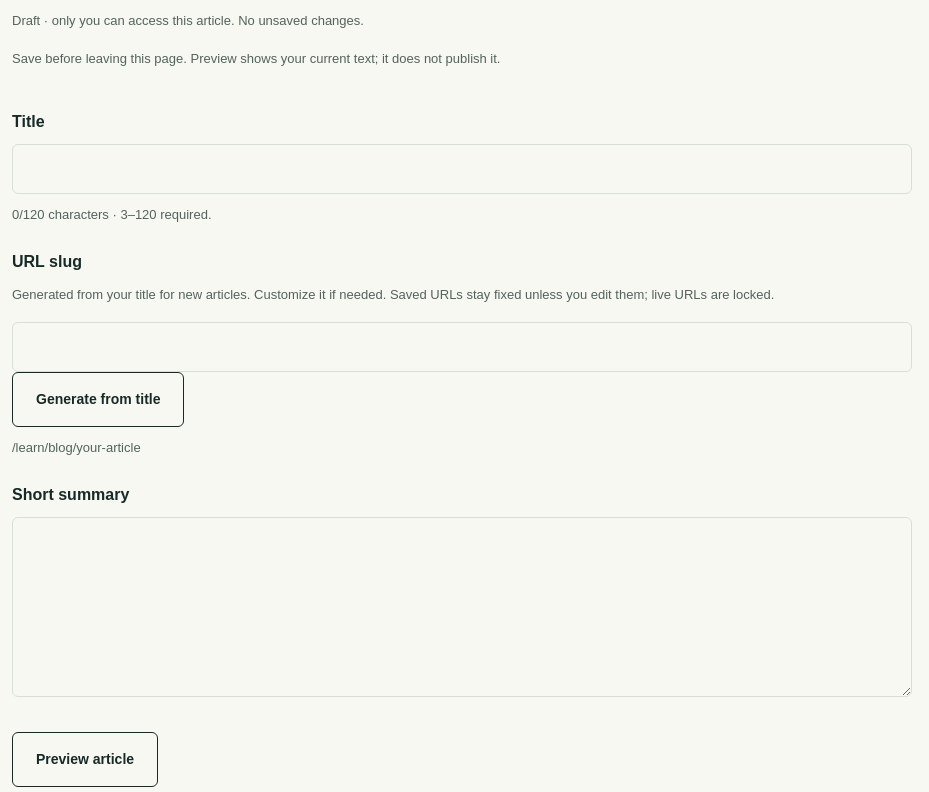
Test: generates a slug from a new title and respects manual overrides
Type "My First Flask App!" into the field labelled "Title" at x=462, y=169, box [12,144,912,194]
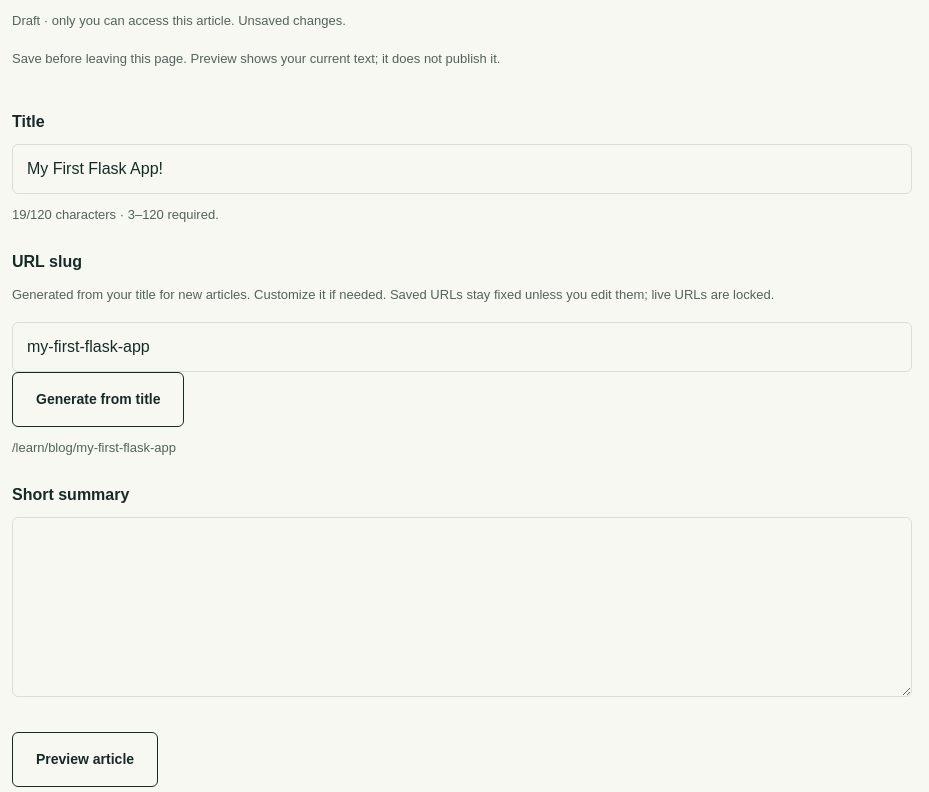
Check: the field labelled "URL slug" holds "my-first-flask-app"
Replace the text in the field labelled "URL slug" with "custom-url" at x=462, y=347, box [12,322,912,372]
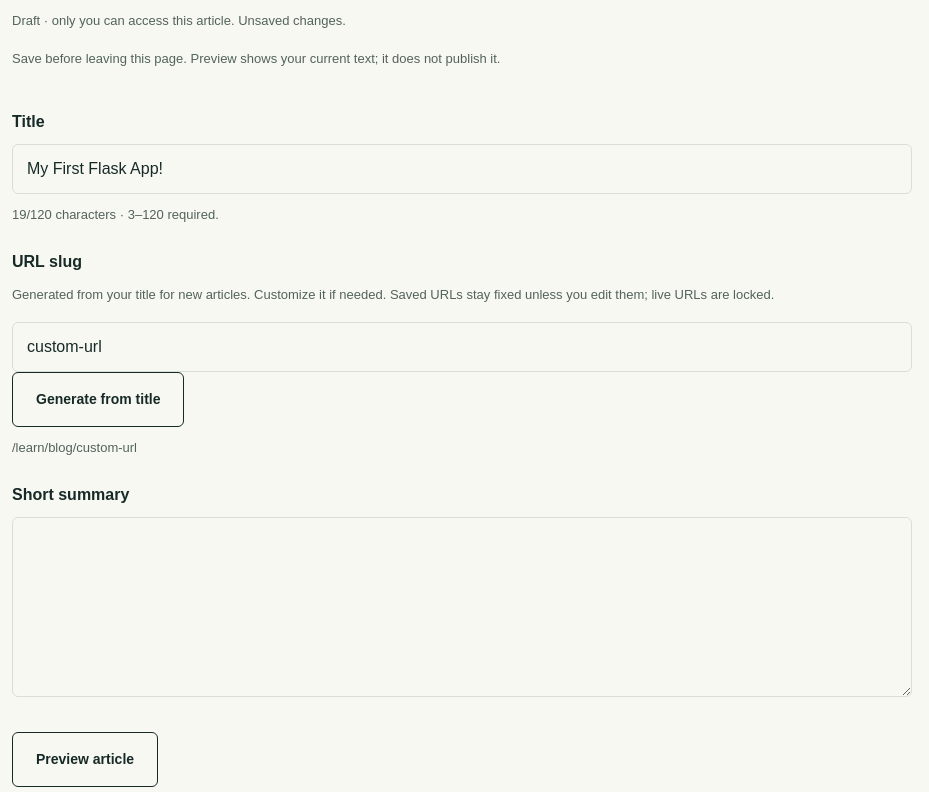
Replace the text in the field labelled "Title" with "Another Title" at x=462, y=169, box [12,144,912,194]
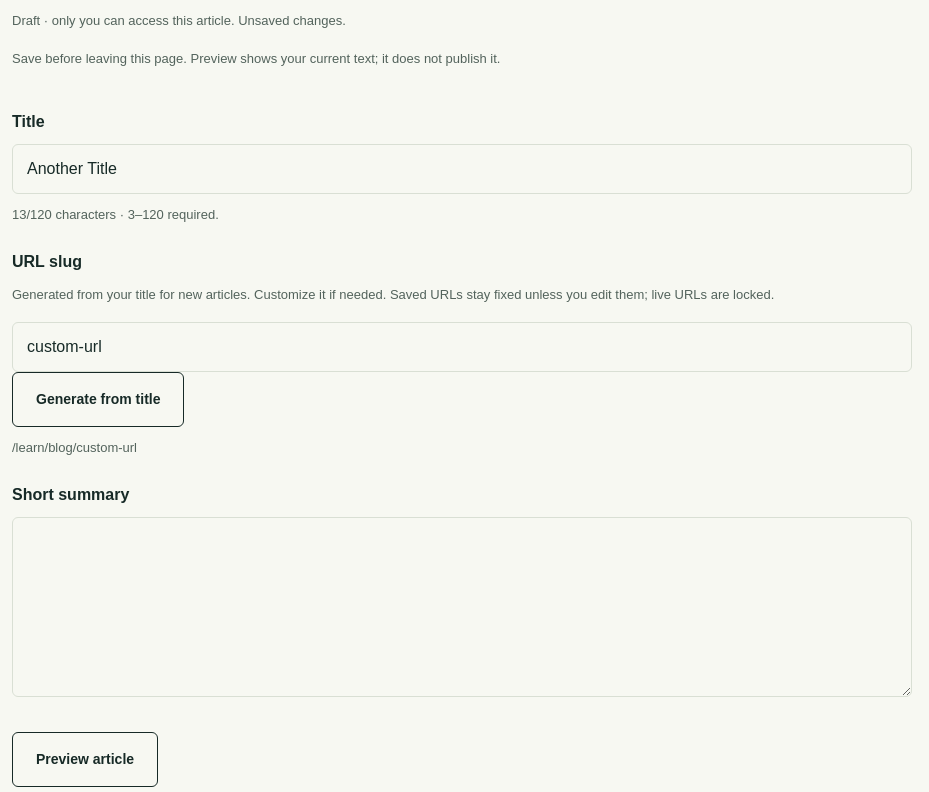
Click the button "Generate from title" at x=98, y=400, box [12,372,184,427]
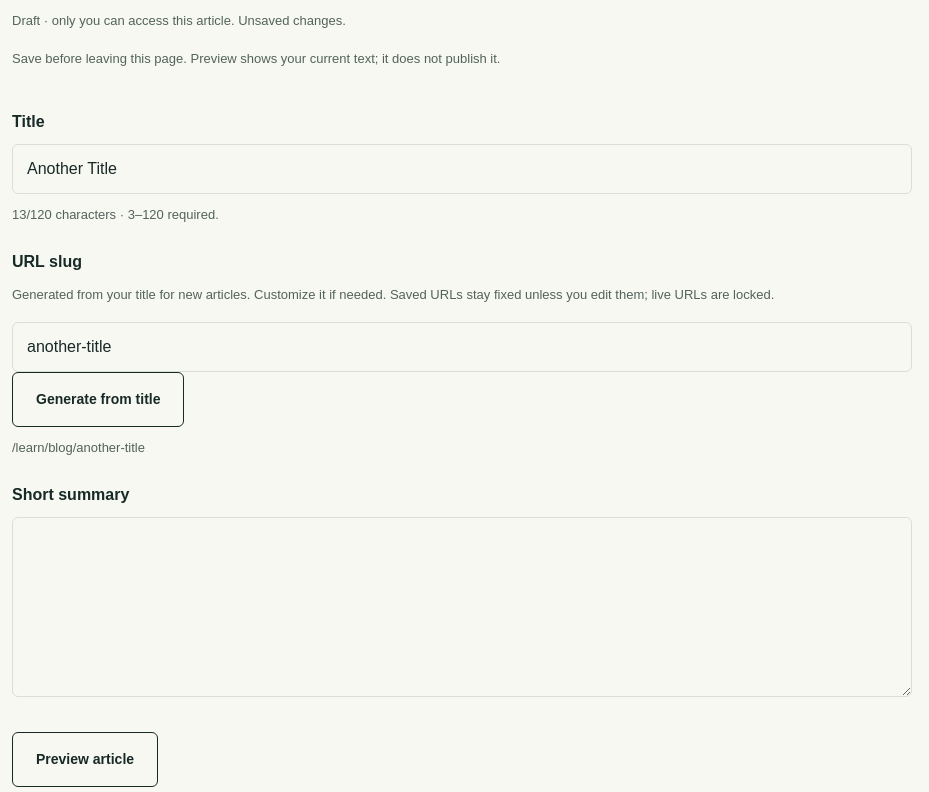
Check: the field labelled "URL slug" holds "another-title", box [12,322,912,372]
